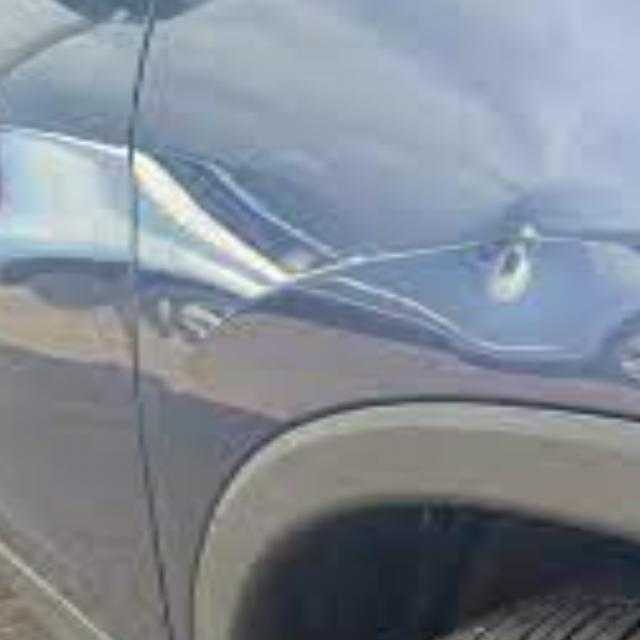dents: (435, 180, 599, 337)
